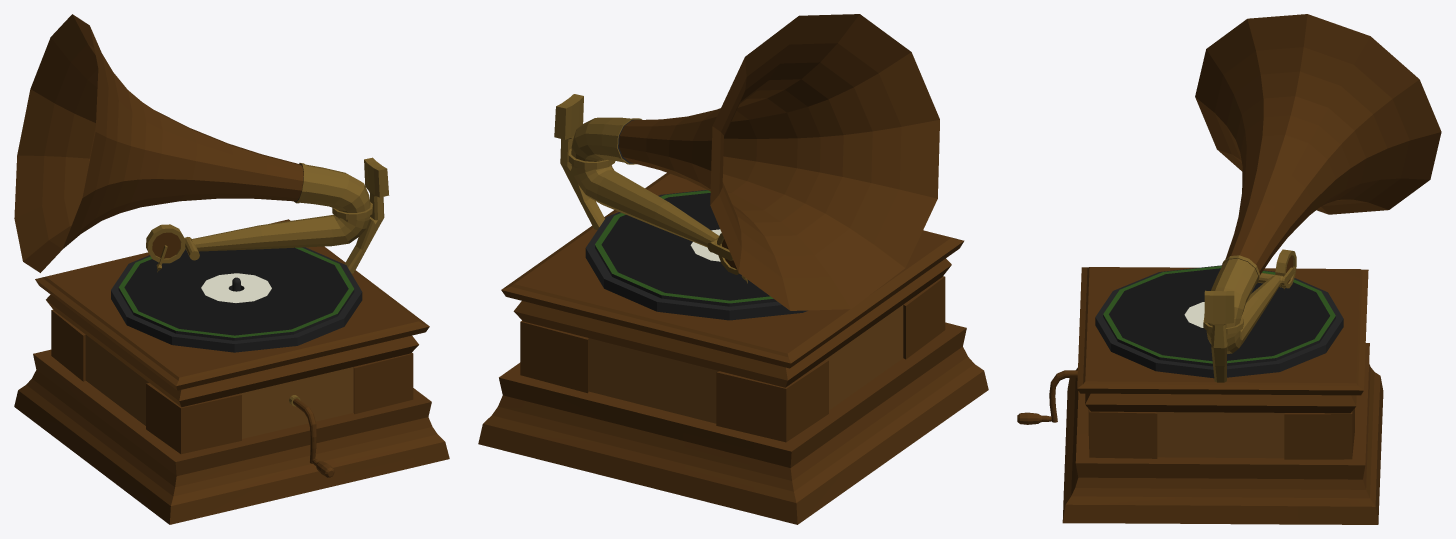
File: gramaphone (2).fbx
The picture shows the model from 3 angles, left to right: view 1: azimuth 30°, elevation 25°; view 2: azimuth 150°, elevation 25°; view 3: azimuth 270°, elevation 25°; orthographic projection. The views are drawn at different scales.
Visible parts, largest first — view 1: Plane.035; view 2: Plane.035; view 3: Plane.035.
Part boxes in pixels (x1=…): Plane.035: x1=14, y1=14, x2=449, y2=524; Plane.035: x1=478, y1=14, x2=988, y2=524; Plane.035: x1=1017, y1=14, x2=1441, y2=524.
Bounding box in the file's own units: 674 × 693 × 582.
